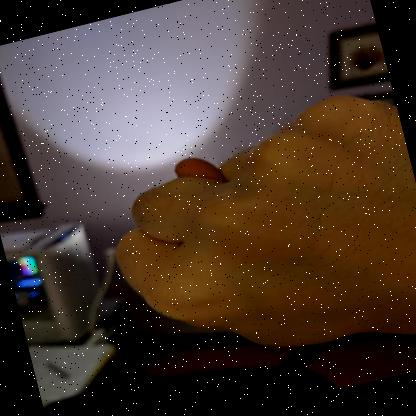N: (115, 94, 416, 347)
